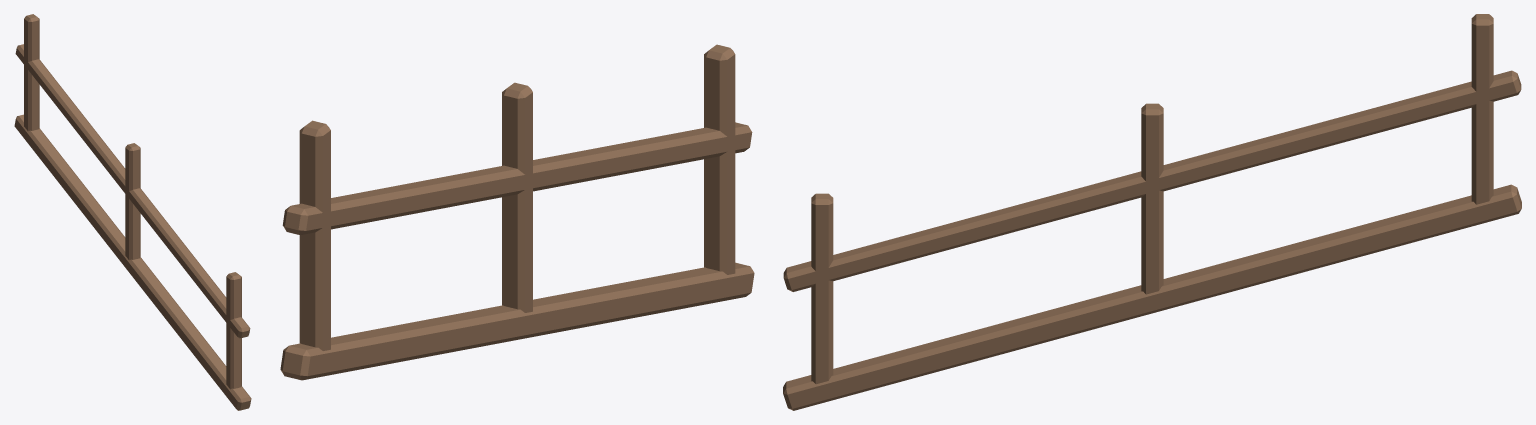
File: stair_stringer.glb
3 views of the same model, side by side, from view 1: azimuth 30°, elevation 25°; view 2: azimuth 150°, elevation 25°; view 3: azimuth 270°, elevation 25° (orthographic). The views are drawn at different scales.
Visible parts, largest first — view 1: TV_stair_stringer; view 2: TV_stair_stringer; view 3: TV_stair_stringer.
Boxes of the visible parts, bbox=[...] form: TV_stair_stringer: bbox=[14, 14, 251, 410]; TV_stair_stringer: bbox=[280, 44, 754, 380]; TV_stair_stringer: bbox=[783, 14, 1521, 410].
Bounding box in the file's own units: 0.14 × 2.35 × 4.03.
